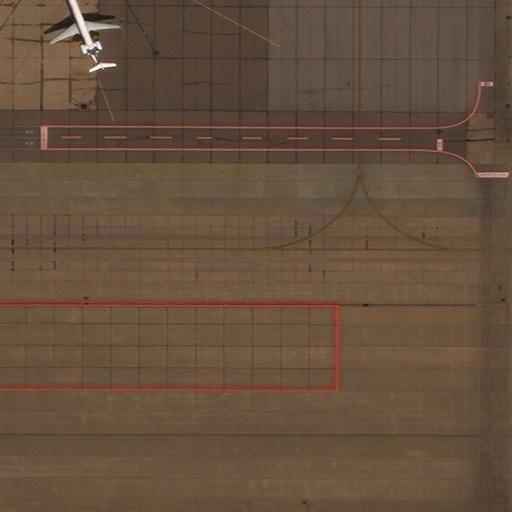Medium Civil Transport: (49, 0, 120, 70)
